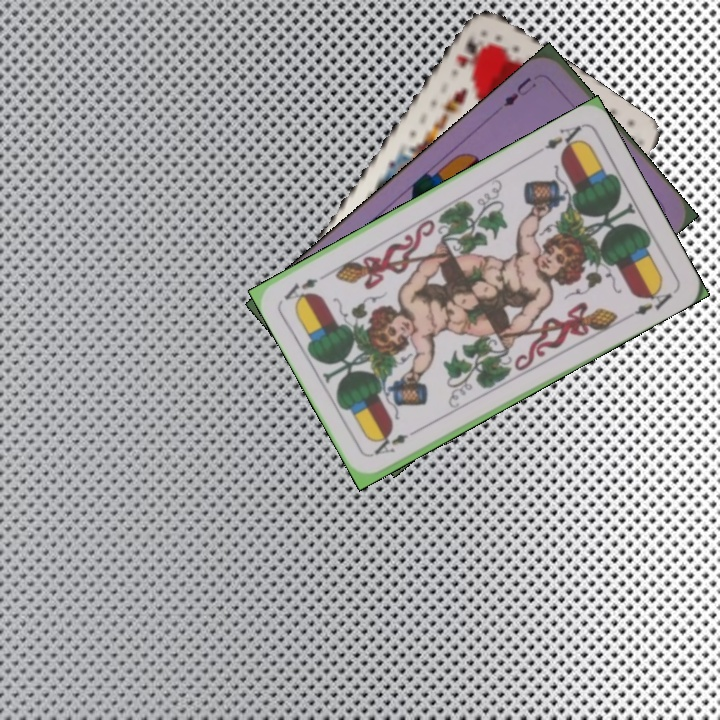EA: (531, 121, 585, 157), (368, 430, 411, 459)
EU: (499, 72, 539, 110)
HK: (452, 33, 487, 72)
